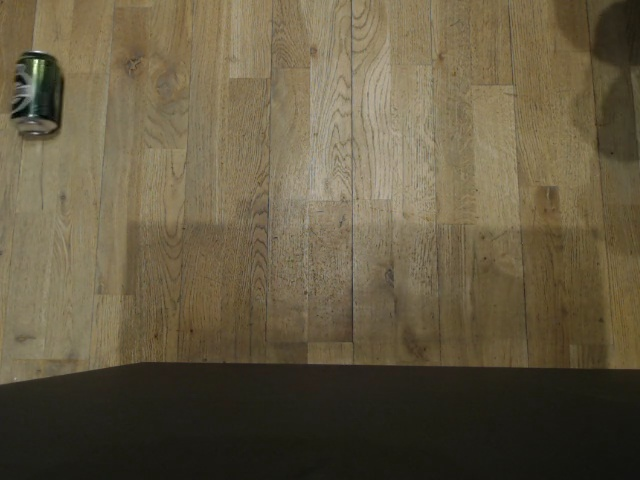beer: (8, 48, 67, 142)
